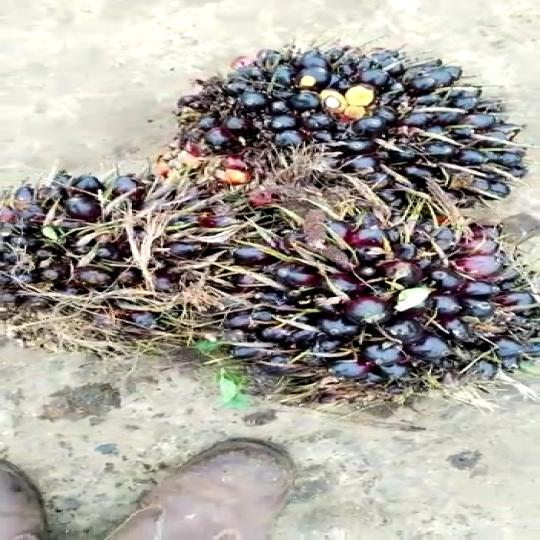mentah: (1, 164, 540, 412), (157, 36, 540, 205)
